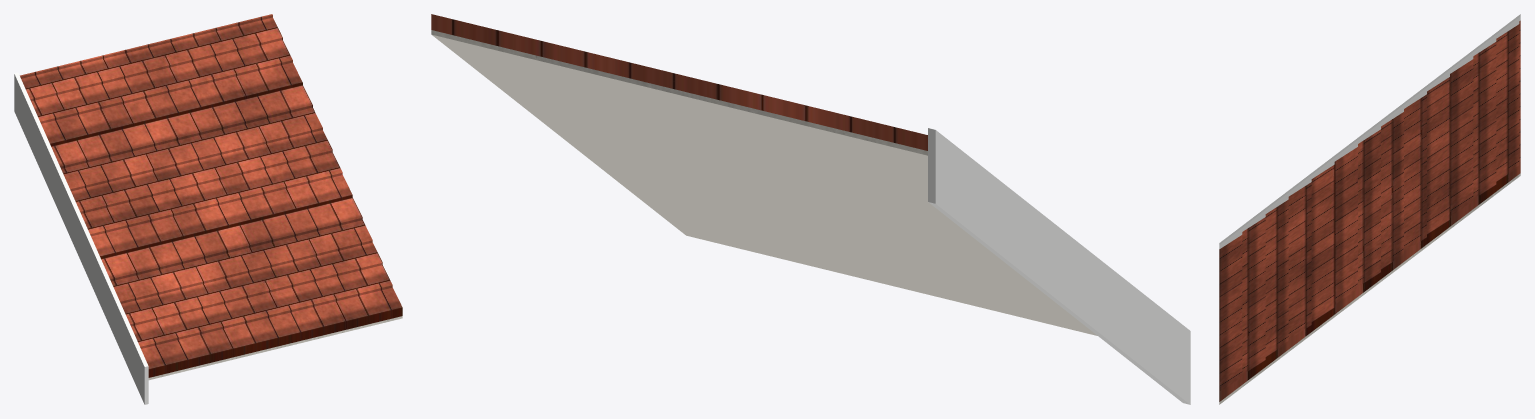
File: groof_wall_a.glb
The picture shows the model from 3 angles, left to right: view 1: azimuth 30°, elevation 25°; view 2: azimuth 150°, elevation 25°; view 3: azimuth 270°, elevation 25°; orthographic projection. The views are drawn at different scales.
Parts seen in each view (by area): view 1: groof_wall_a_shingles, groof_wall_a_trim, groof_wall_a_plaster; view 2: groof_wall_a_plaster, groof_wall_a_trim, groof_wall_a_shingles; view 3: groof_wall_a_shingles, groof_wall_a_trim, groof_wall_a_plaster.
Boxes of the visible parts, box(x1,y1,x2,y2) form: groof_wall_a_shingles: box(20, 14, 402, 377); groof_wall_a_trim: box(14, 72, 148, 404); groof_wall_a_plaster: box(148, 316, 402, 380); groof_wall_a_plaster: box(431, 30, 1097, 335); groof_wall_a_trim: box(928, 128, 1190, 404); groof_wall_a_shingles: box(431, 14, 927, 150); groof_wall_a_shingles: box(1219, 20, 1520, 401); groof_wall_a_trim: box(1219, 14, 1520, 248); groof_wall_a_plaster: box(1219, 173, 1520, 404).
Bounding box in the file's own units: 2.28 × 2 × 2.
Materials: 3 (2 with a texture image).
